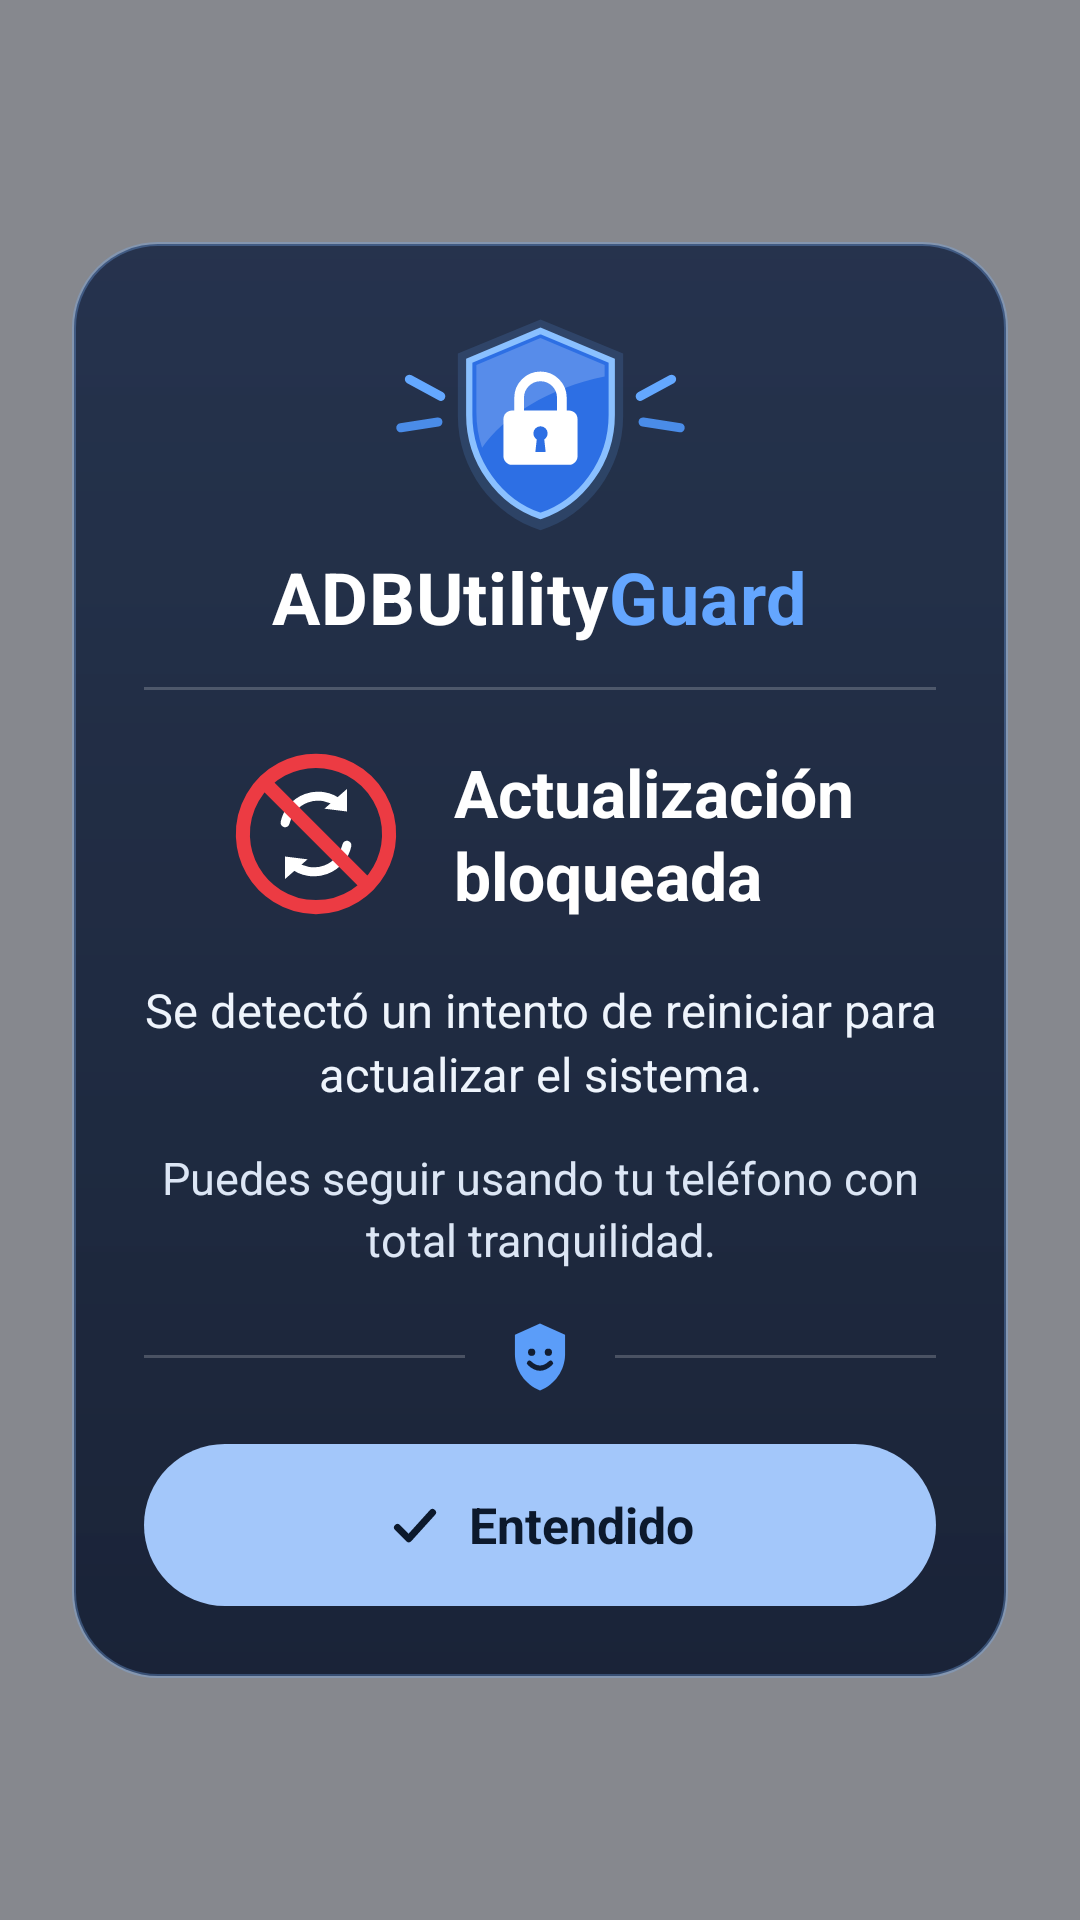

Icon click points for this 1080*1920 phone screenshot, format (x=x, y=y):
update blocked: (x=316, y=834)
update check: (x=415, y=1525)
update shield lock: (x=540, y=425)
update smile shield: (x=540, y=1357)
